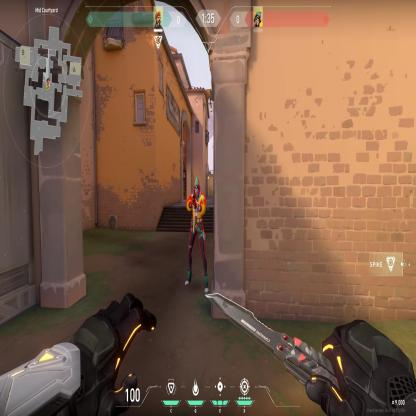enemy: (184, 175, 209, 294)
